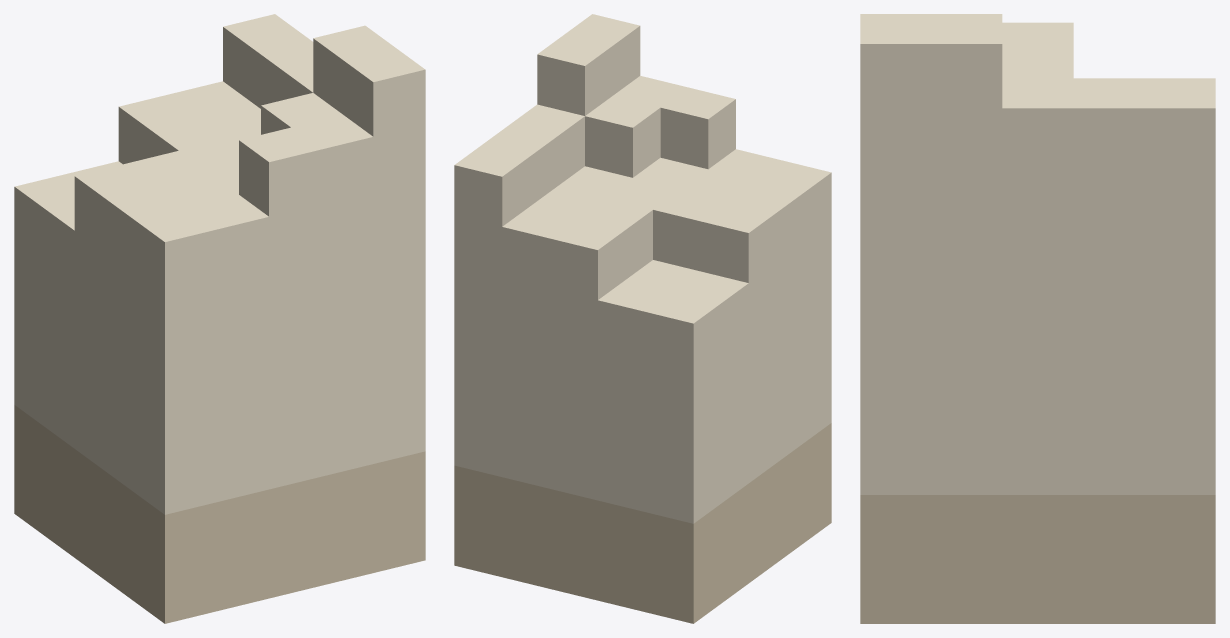
Rendered from polar_bear__leg_fl.glb.
The picture shows the model from 3 angles, left to right: view 1: azimuth 30°, elevation 25°; view 2: azimuth 150°, elevation 25°; view 3: azimuth 270°, elevation 25°; orthographic projection. The views are drawn at different scales.
Parts seen in each view (by area): view 1: polar_bear__leg_fl; view 2: polar_bear__leg_fl; view 3: polar_bear__leg_fl.
Boxes of the visible parts, x1,y1,x2,y2 form: polar_bear__leg_fl: (14,14,425,623); polar_bear__leg_fl: (454,14,831,623); polar_bear__leg_fl: (860,14,1215,623).
Size of the model in its own units: 0.5 by 0.9 by 0.5.
Materials: 1 (1 with a texture image).
